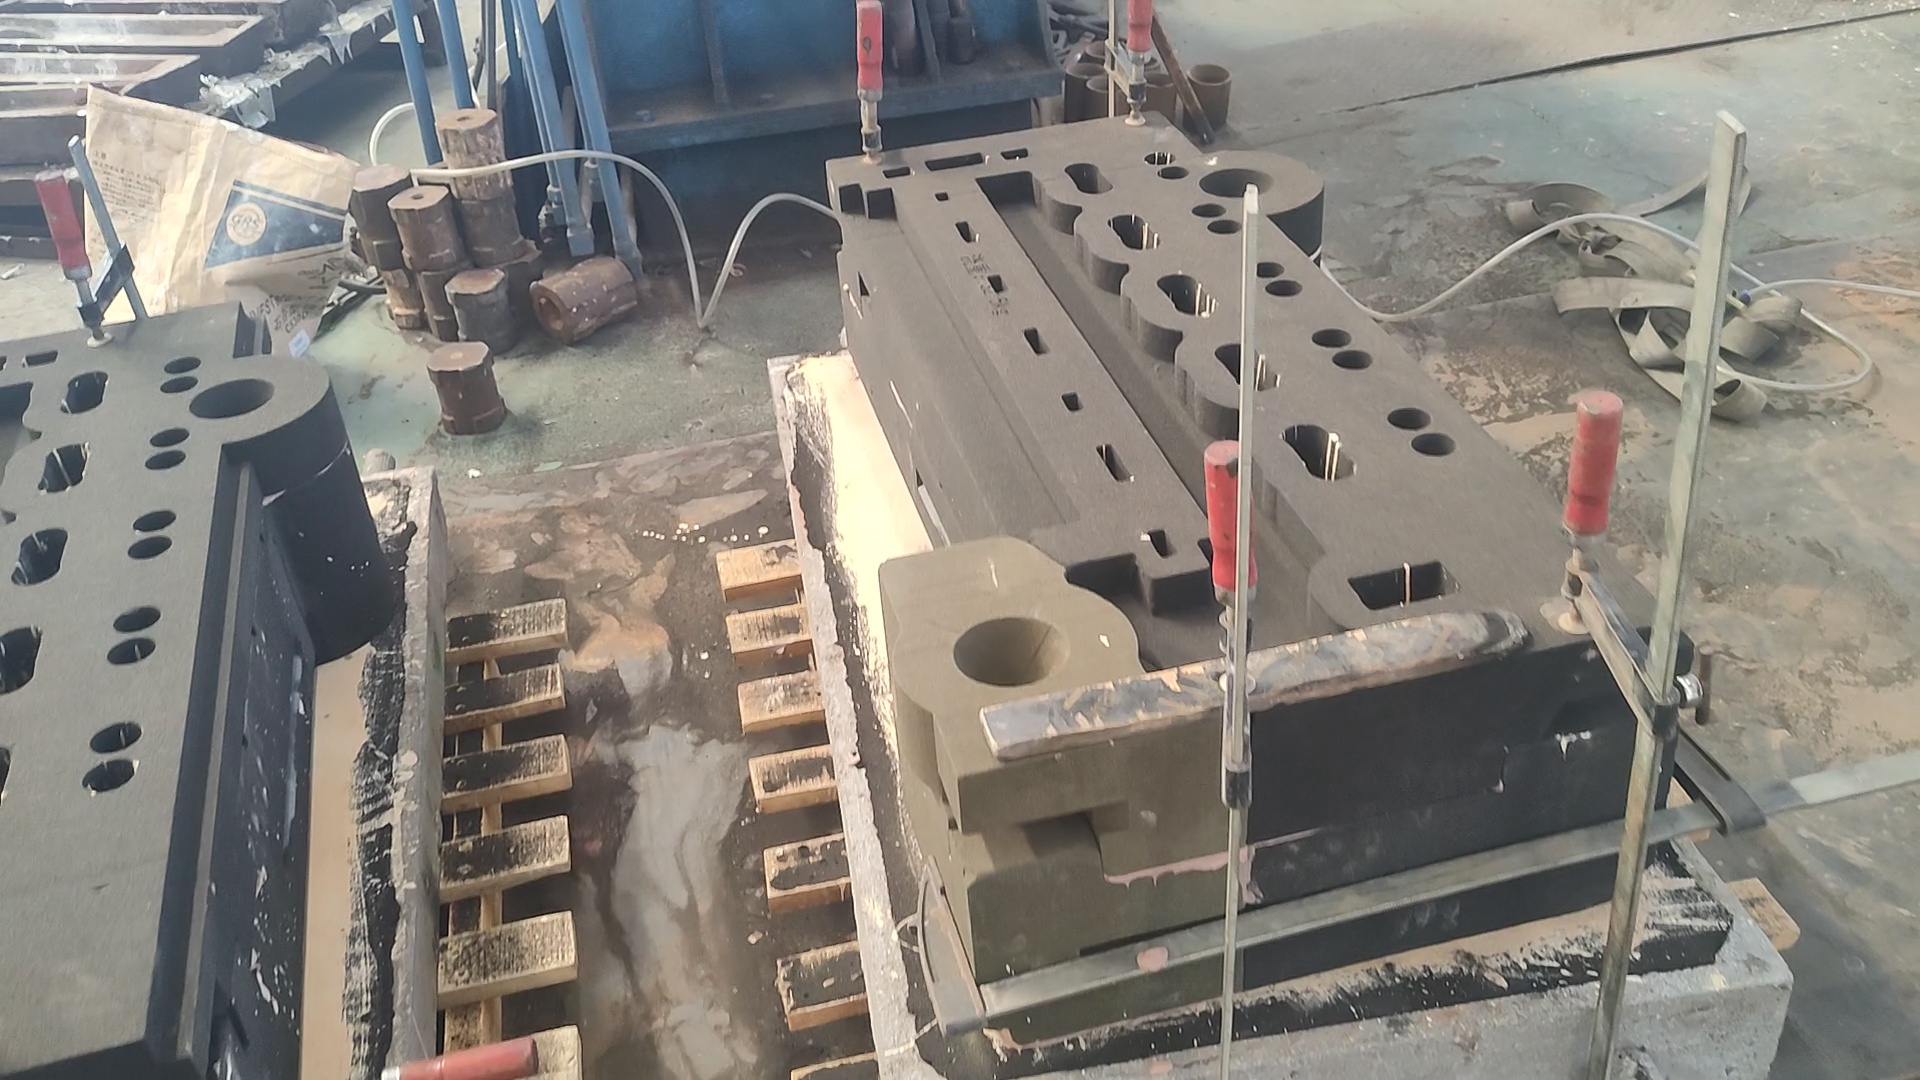pouring hole: (953, 616, 1069, 688), (187, 378, 274, 418), (1199, 167, 1276, 196), (1187, 63, 1232, 84), (1087, 73, 1124, 94), (1087, 40, 1125, 58), (1065, 63, 1106, 79), (1135, 73, 1176, 87), (1124, 53, 1160, 69)
